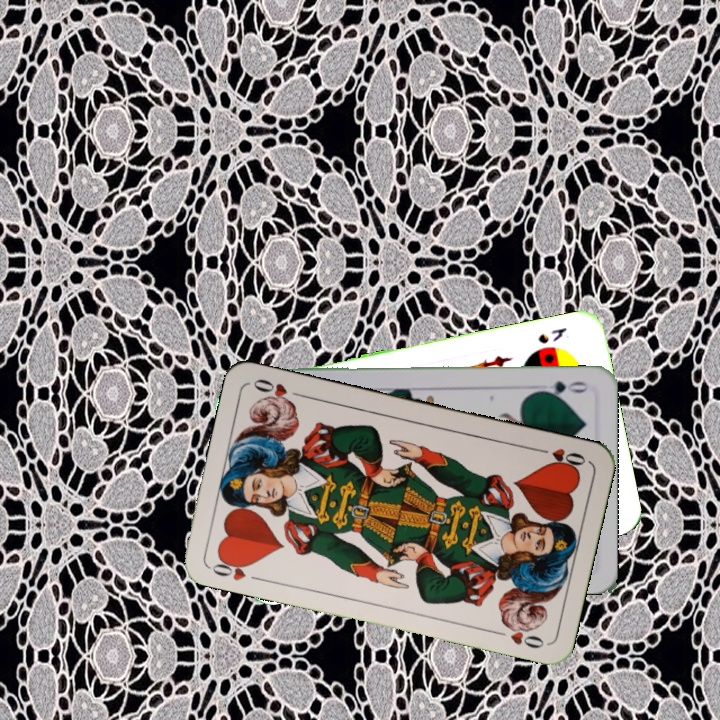GO: (532, 376, 590, 400)
HO: (206, 552, 265, 584), (531, 444, 589, 472)
SK: (534, 323, 569, 346)
